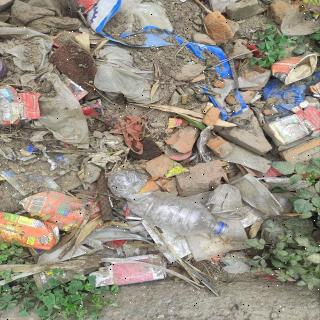Plastic-bottle: (106, 168, 234, 240)
